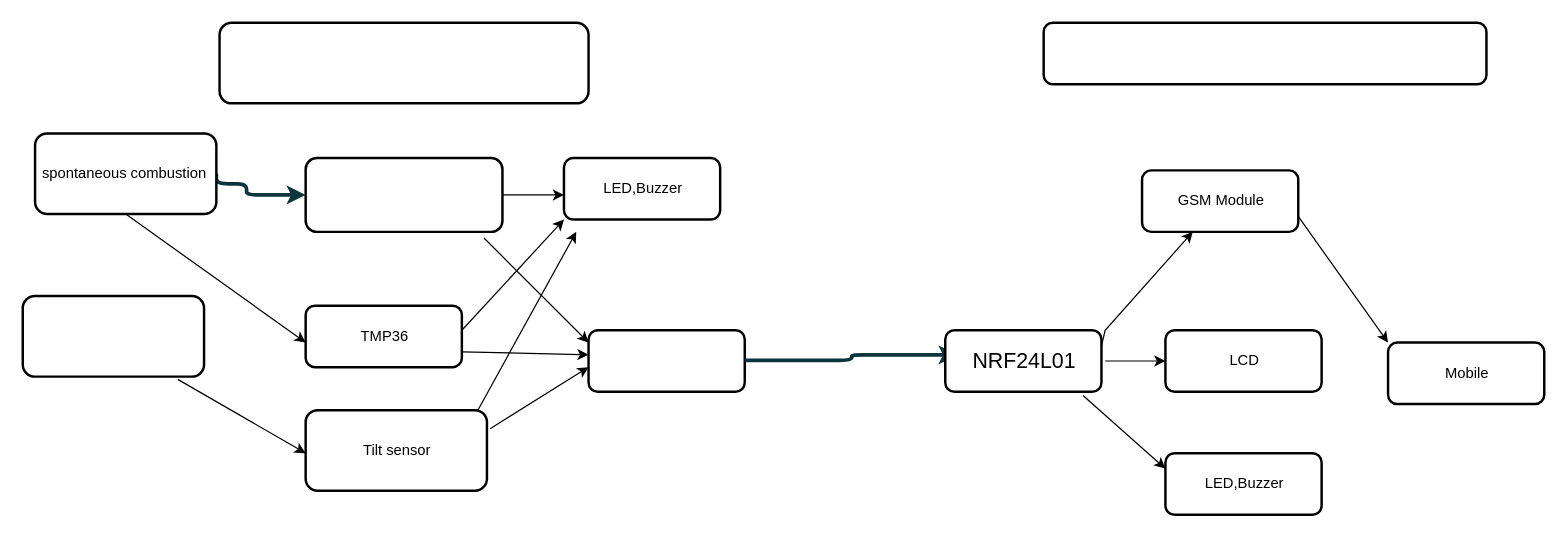
Image size: 1566x536. Some labels were removed from this diagram. The box of each missing label's shape, as (x1, y1, x2, y2) in pixels:
Gas detector( MICS5504: (304, 156, 503, 232)
Mine Flooding: (21, 294, 205, 377)
NRF24L01 (Transmitting): (587, 328, 745, 392)
RECEIVER: (1042, 21, 1487, 85)
TRANSMITTER: (218, 21, 589, 104)
